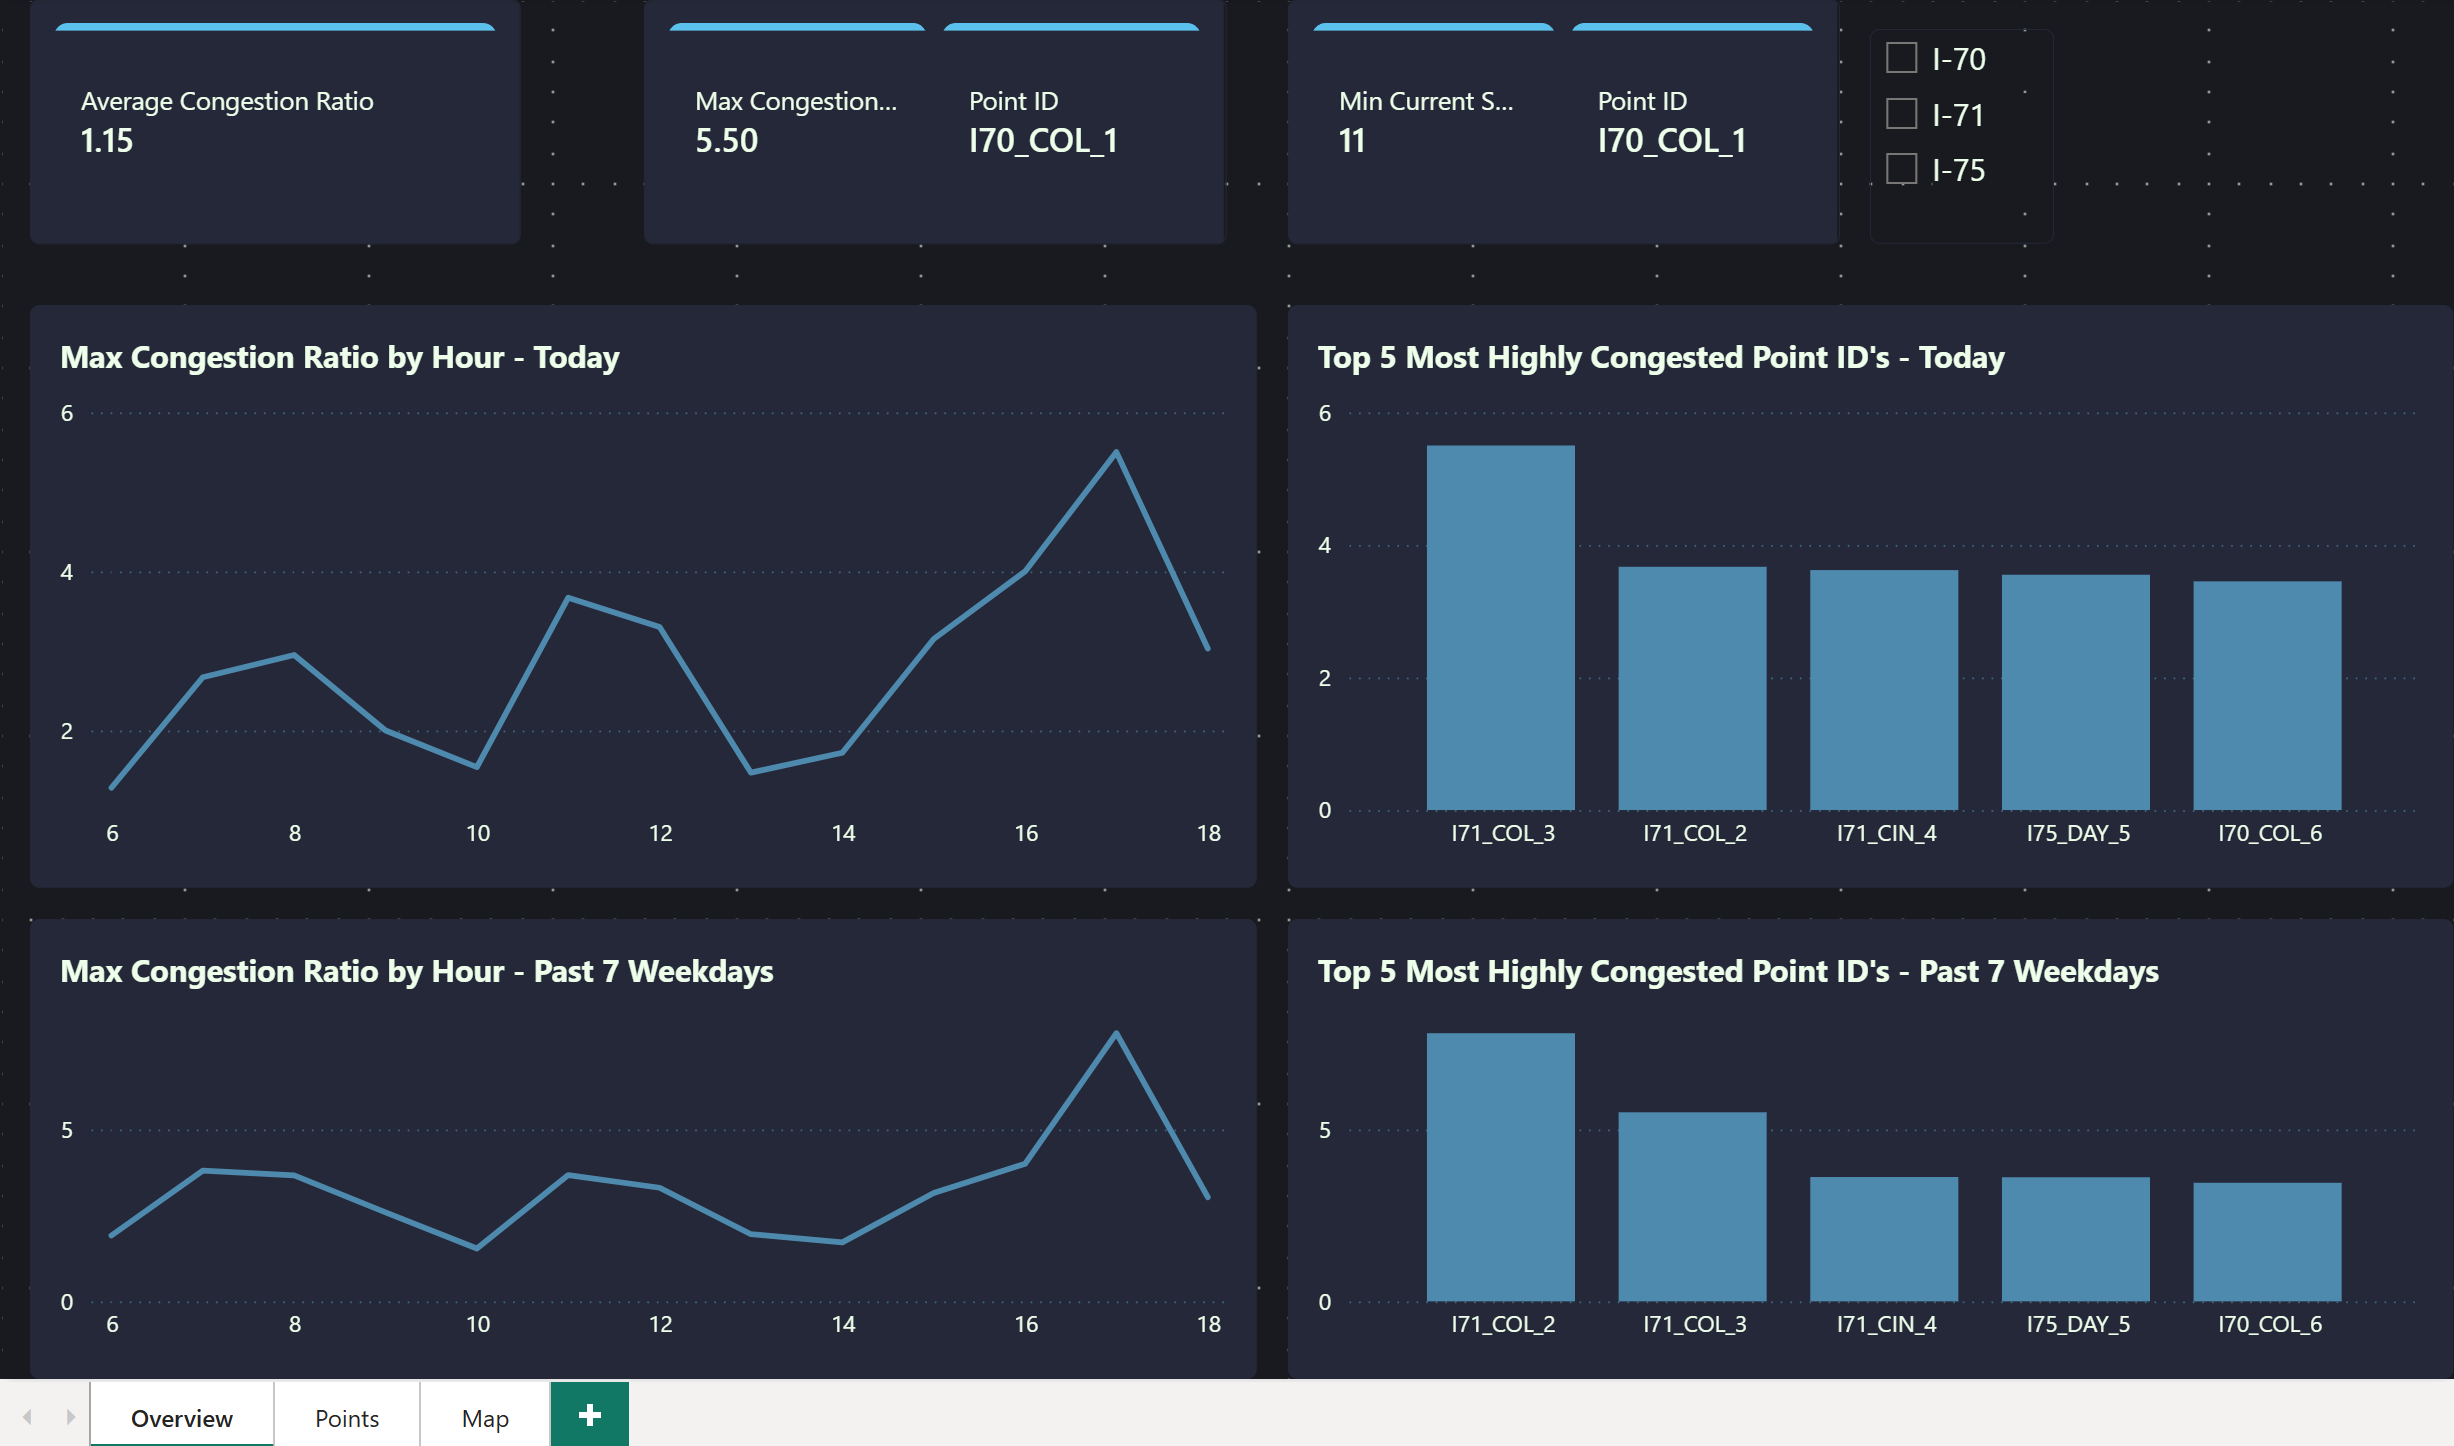

This screenshot's page, from the dashboard's own definition file:
{"tool":"powerbi","page":{"name":"Overview","canvas":[1280,720],"ordinal":0},"visuals":[{"type":"cardVisual","title":"Average Congestion Ratio","fields":{"Data":["Avg(vw_powerbi_hourly_max_congestion.highest_congestion_ratio)"]},"box":[16,0,256,128],"z":0},{"type":"cardVisual","fields":{"Data":["Max(vw_powerbi_hourly_max_congestion.highest_congestion_ratio)","Min(vw_powerbi_hourly_max_congestion.point_id)"]},"box":[336,0,304,128],"z":1000},{"type":"cardVisual","fields":{"Data":["Min(vw_powerbi_hourly_max_congestion.lowest_current_speed)","Min(vw_powerbi_hourly_max_congestion.point_id)"]},"box":[672,0,288,128],"z":2000},{"type":"lineChart","title":"Max Congestion Ratio by Hour - Today","fields":{"Y":["Max(vw_powerbi_hourly_max_congestion.highest_congestion_ratio)"],"Category":["vw_powerbi_hourly_max_congestion.hour"]},"box":[16,160,640,304],"z":3000},{"type":"slicer","fields":{"Values":["vw_powerbi_hourly_max_congestion.corridor"]},"box":[976,16,96,112],"z":5000},{"type":"columnChart","title":"Top 5 Most Highly Congested Point ID''s - Today","fields":{"Category":["vw_powerbi_hourly_max_congestion.point_id"],"Y":["Max(vw_powerbi_hourly_max_congestion.highest_congestion_ratio)"]},"box":[672,160,608,304],"z":6000},{"type":"lineChart","title":"Max Congestion Ratio by Hour - Past 7 Weekdays","fields":{"Category":["vw_powerbi_past_7_weekdays.hour"],"Y":["Max(vw_powerbi_past_7_weekdays.congestion_ratio)"]},"box":[16,480,640,240],"z":7000},{"type":"columnChart","title":"Top 5 Most Highly Congested Point ID''s - Past 7 Weekdays","fields":{"Category":["vw_powerbi_past_7_weekdays.point_id"],"Y":["Max(vw_powerbi_past_7_weekdays.congestion_ratio)"]},"box":[672,480,608,240],"z":8000}]}

Visuals, with their boxes on the page's 1280x720 design canvas (x1, y1, x2, y2). These are canvas units, not pixel positions in the 2454x1446 screenshot, which may show the page scaled, cropped or inside an application window:
"Average Congestion Ratio" cardVisual: locate(16, 0, 272, 128)
cardVisual - Max(vw_powerbi_hourly_max_congestion.highest_congestion_ratio) x Min(vw_powerbi_hourly_max_congestion.point_id): locate(336, 0, 640, 128)
cardVisual - Min(vw_powerbi_hourly_max_congestion.lowest_current_speed) x Min(vw_powerbi_hourly_max_congestion.point_id): locate(672, 0, 960, 128)
"Max Congestion Ratio by Hour - Today" lineChart: locate(16, 160, 656, 464)
slicer - vw_powerbi_hourly_max_congestion.corridor: locate(976, 16, 1072, 128)
"Top 5 Most Highly Congested Point ID''s - Today" columnChart: locate(672, 160, 1280, 464)
"Max Congestion Ratio by Hour - Past 7 Weekdays" lineChart: locate(16, 480, 656, 720)
"Top 5 Most Highly Congested Point ID''s - Past 7 Weekdays" columnChart: locate(672, 480, 1280, 720)
